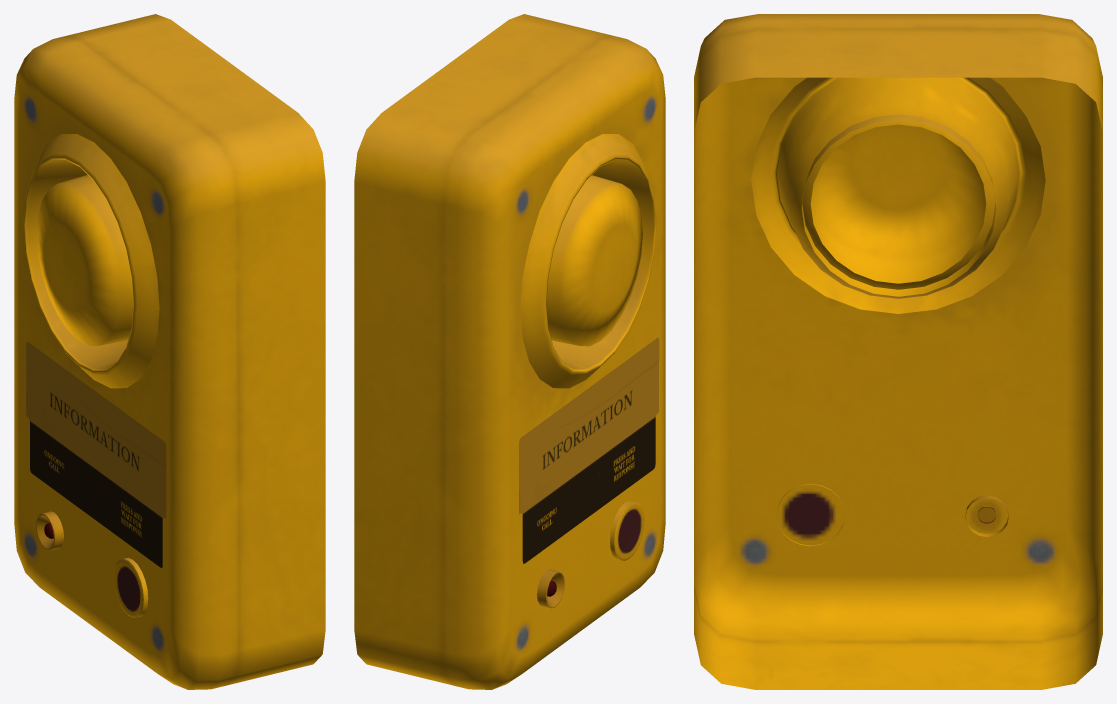
Rendered from SM_Help_machine_01a.fbx.
The picture shows the model from 3 angles, left to right: view 1: azimuth 30°, elevation 25°; view 2: azimuth 150°, elevation 25°; view 3: azimuth 270°, elevation 25°; orthographic projection. The views are drawn at different scales.
Visible parts, largest first — view 1: SM_Help_machine_01a; view 2: SM_Help_machine_01a; view 3: SM_Help_machine_01a.
Boxes of the visible parts, x1,y1,x2,y2 form: SM_Help_machine_01a: (14,14,325,689); SM_Help_machine_01a: (354,14,665,689); SM_Help_machine_01a: (694,14,1102,689).
Size of the model in its own units: 8.91 by 16.65 by 27.51.
1 material, 1 textured.
